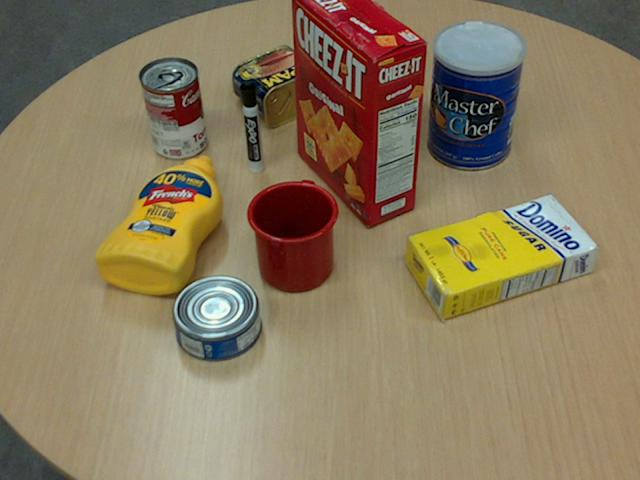cracker_box: (292, 0, 426, 224)
gelatin_box: (349, 49, 415, 107)
large_marker: (239, 80, 262, 173)
master_chef_can: (426, 21, 524, 171)
mug: (245, 180, 337, 291)
mustard_bottle: (94, 155, 222, 293)
potted_meat_can: (232, 45, 331, 126)
sugar_box: (403, 194, 598, 321)
tomato_soup_can: (139, 55, 206, 157)
tuna_fish_can: (171, 275, 260, 361)
